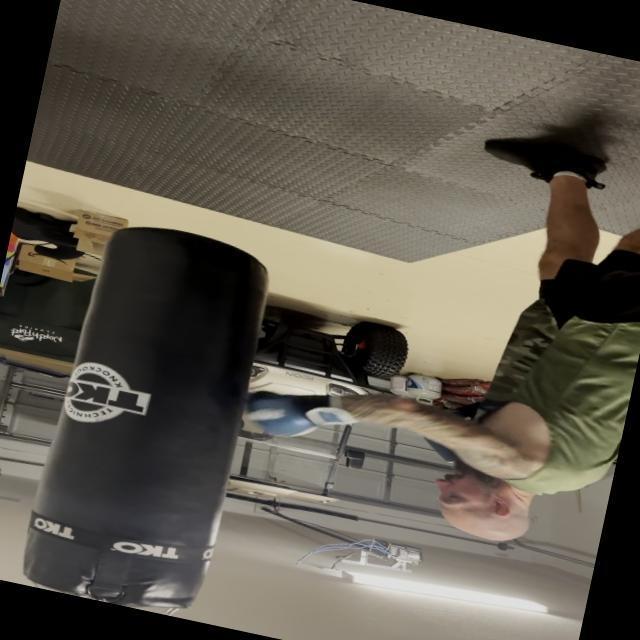bag: (19, 212, 283, 620)
cross: (196, 329, 614, 588)
